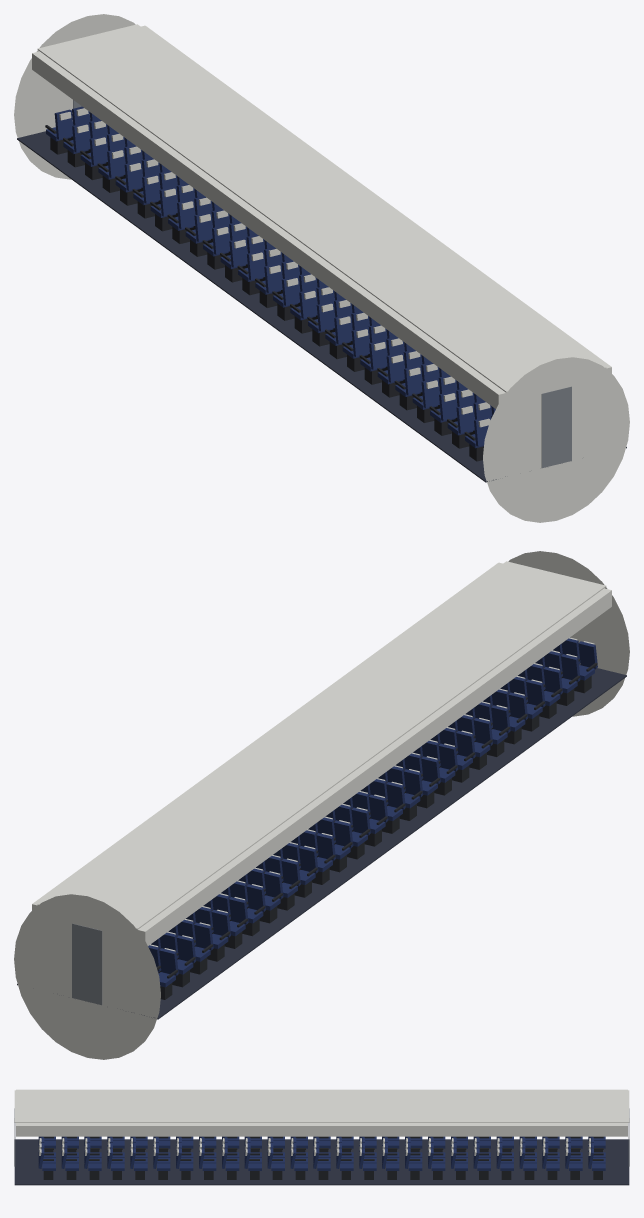
File: lat_narrow_cabin.dae
3 renders of one model, top to bottom at view 1: azimuth 30°, elevation 25°; view 2: azimuth 150°, elevation 25°; view 3: azimuth 270°, elevation 25°, orthographic. The views are drawn at different scales.
Parts seen in each view (by area): view 1: lat_narrow_cabin64; view 2: lat_narrow_cabin64; view 3: lat_narrow_cabin64.
Boxes of the visible parts, left/top/right/bottom form: lat_narrow_cabin64: left=14, top=14, right=629, bottom=522; lat_narrow_cabin64: left=14, top=551, right=629, bottom=1059; lat_narrow_cabin64: left=14, top=1089, right=629, bottom=1185.
Size of the model in its own units: 3.94 by 21.79 by 4.14.
